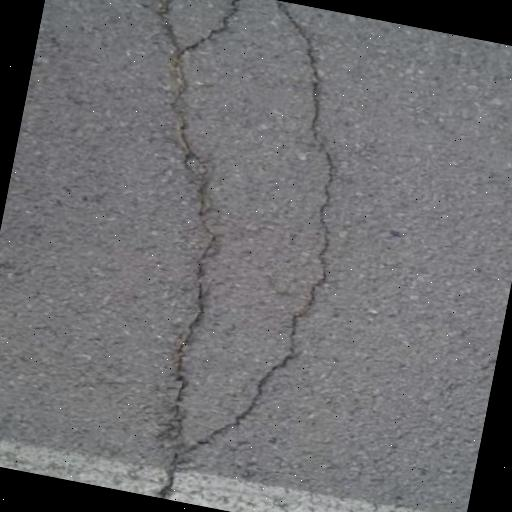spalling: (181, 0, 346, 462), (143, 0, 232, 494), (187, 0, 256, 62)
